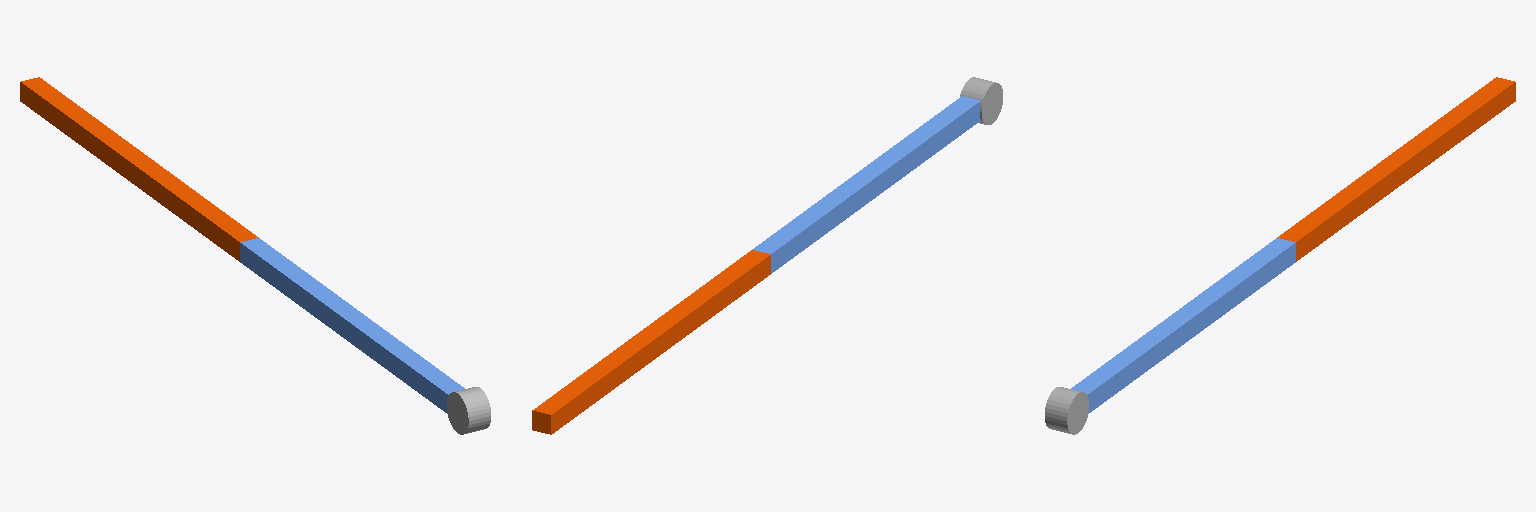
robot.urdf — dual_link_manipulator:
<?xml version="1.0"?>
<robot name="dual_link_manipulator">

  <link name="world"/>

  <joint name="world_to_base" type="fixed">
    <parent link="world"/>
    <child link="base"/>
    <origin rpy="0 0 0" xyz="0.0 0.0 0.0"/>
    <axis xyz="1 0 0"/>
  </joint>

  <link name="base">
    <visual>
      <geometry>
        <cylinder radius="0.05" length="0.06"/>
      </geometry>
      <origin rpy="0 1.5707963267948966 0" xyz="0 0 0.0"/>
      <material name="grey">
        <color rgba="0.75 0.75 0.75 0.8"/>
      </material>
    </visual>
    <inertial>
      <mass value="0.0"/>
      <inertia ixx="0.0" ixy="0.0" ixz="0.0" iyy="0.0" iyz="0.0" izz="0.0"/>
    </inertial>
  </link>

  <joint name="joint_1" type="revolute">
    <axis xyz="1 0 0"/>
    <origin xyz="0.0 0.0 0.0" rpy="-1.5707963267948966 0.0 0.0"/>
    <parent link="base"/>
    <child link="link_1"/>
    <limit effort="100000.0" lower="-15" upper="15" velocity="50"/>
    <dynamics damping="0.0" friction="0.0"/>
  </joint>

  <link name="link_1">
    <visual>
      <geometry>
        <box size="0.05 0.05 1.0"/>
      </geometry>
      <origin rpy="0 0 0" xyz="0 0 0.5"/>
      <material name="Blue">
      <color rgba="0.5 0.7 1.0 1.0"/>      
      </material>
    </visual>
    <collision>
      <geometry>
          <box size="0.5 0.5 1.0"/>
      </geometry>
      <origin xyz="0 0 0"/>
    </collision>
    <inertial>
      <mass value="2.0"/>
      <inertia ixx="0.167083" ixy="0.0" ixz="0.0" iyy="0.167083" iyz="0.0" izz="0.00083"/>
    </inertial>
  </link>

  <joint name="joint_2" type="revolute">
    <axis xyz="1 0 0"/>
    <origin xyz="0.0 0.0 1.0" rpy="0.0 0.0 0.0"/>
    <parent link="link_1"/>
    <child link="link_2"/>
    <limit effort="100000.0" lower="-15" upper="15" velocity="50"/>
    <dynamics damping="0.0" friction="0.0"/>
  </joint>

  <link name="link_2">
    <visual>
      <geometry>
        <box size="0.05 0.05 1.0"/>
      </geometry>
      <origin rpy="0 0 0" xyz="0 0 0.5"/>
      <material name="Orange">
        <color rgba="1.0 0.423529411765 0.0392156862745 1.0"/>
      </material>
    </visual>
    <inertial>
      <origin rpy="0 0 0" xyz="0 0 0.5"/>
      <mass value="1.0"/>
      <inertia ixx="0.08354" ixy="0.0" ixz="0.08354" iyy="0.0" iyz="0.0" izz="0.000415"/>
    </inertial>
     <collision>
      <geometry>
        <box size="0.05 0.05 1.0"/>
      </geometry>
      <origin rpy="0 0 0" xyz="0 0 0.5"/>
    </collision>
  </link>

</robot>

--- Facts derived from the render (not from the file) ---
The picture shows the robot from 3 angles, left to right: view 1: azimuth 30°, elevation 25°; view 2: azimuth 150°, elevation 25°; view 3: azimuth 330°, elevation 25°; orthographic projection.
Robot: dual_link_manipulator — 4 links, 3 joints (2 revolute, 1 fixed); root link world; default pose: every joint at zero.
Visible links, largest first — view 1: link_2, link_1, base; view 2: link_2, link_1, base; view 3: link_2, link_1, base.
Boxes of the visible links, x1,y1,x2,y2 form: link_2: [20, 77, 258, 261]; link_1: [240, 238, 464, 413]; base: [447, 387, 490, 434]; link_2: [532, 250, 770, 434]; link_1: [752, 96, 980, 273]; base: [960, 77, 1002, 124]; link_2: [1277, 77, 1515, 261]; link_1: [1071, 238, 1295, 413]; base: [1045, 387, 1088, 434].
Size in the robot's own frame: 0.06 by 2.05 by 0.1 metres.
Geometry: primitives only (box / cylinder / sphere), no mesh files.